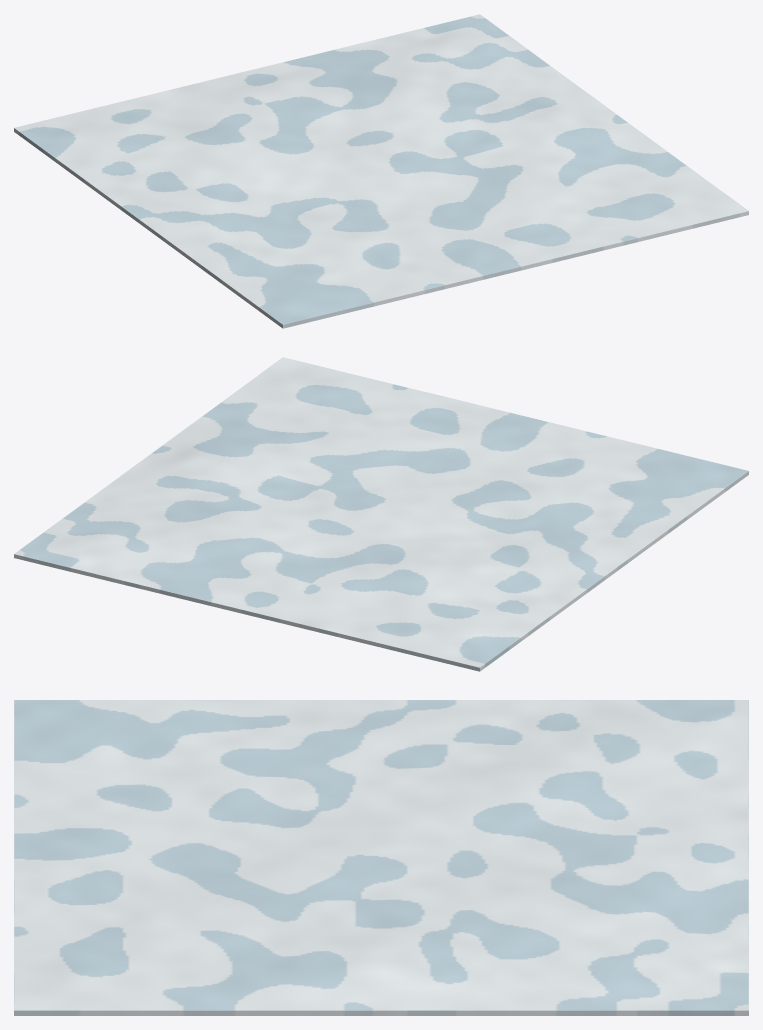
The model's file is Snow_Flat_09.obj.
3 views of the same model, one above another, from view 1: azimuth 30°, elevation 25°; view 2: azimuth 150°, elevation 25°; view 3: azimuth 270°, elevation 25° (orthographic). The views are drawn at different scales.
Size of the model in its own units: 10 by 0.2008 by 10.
1 material, 1 textured.
